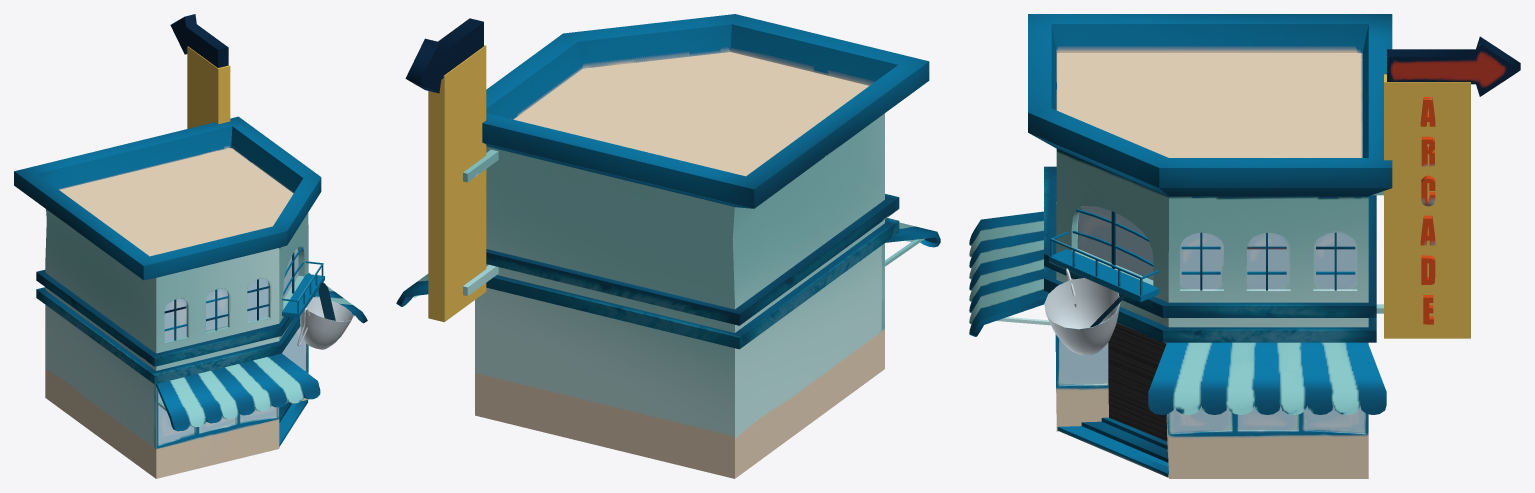
Rendered from Restaurante.fbx.
3 renders of one model, left to right at view 1: azimuth 30°, elevation 25°; view 2: azimuth 150°, elevation 25°; view 3: azimuth 270°, elevation 25°, orthographic. The views are drawn at different scales.
Visible parts, largest first — view 1: Edificio; view 2: Edificio; view 3: Edificio, Puerta.
Part boxes in pixels (x1,y1,x2,y2): Edificio: (14,14,367,478); Edificio: (396,14,940,478); Edificio: (969,14,1520,478); Puerta: (1108,323,1167,441).
Size of the model in its own units: 699 by 767 by 883.
